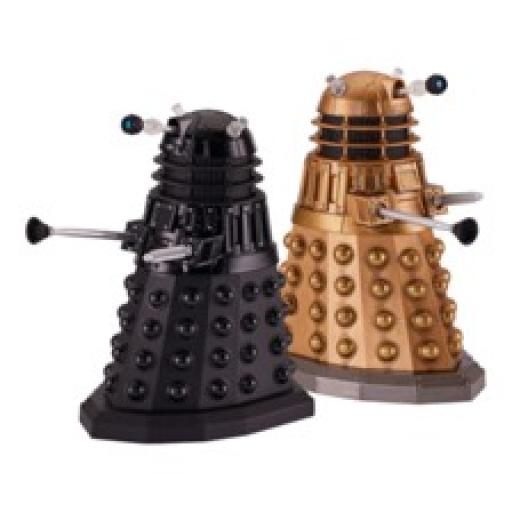dalek: (26, 96, 318, 444), (271, 58, 492, 412)
